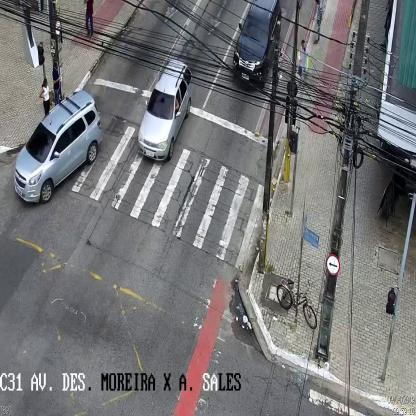bicycle: (276, 275, 317, 331)
car: (14, 91, 101, 203), (137, 60, 192, 161), (233, 0, 283, 85)
person: (298, 38, 308, 94), (39, 78, 52, 118), (312, 1, 323, 48), (84, 0, 94, 40)
